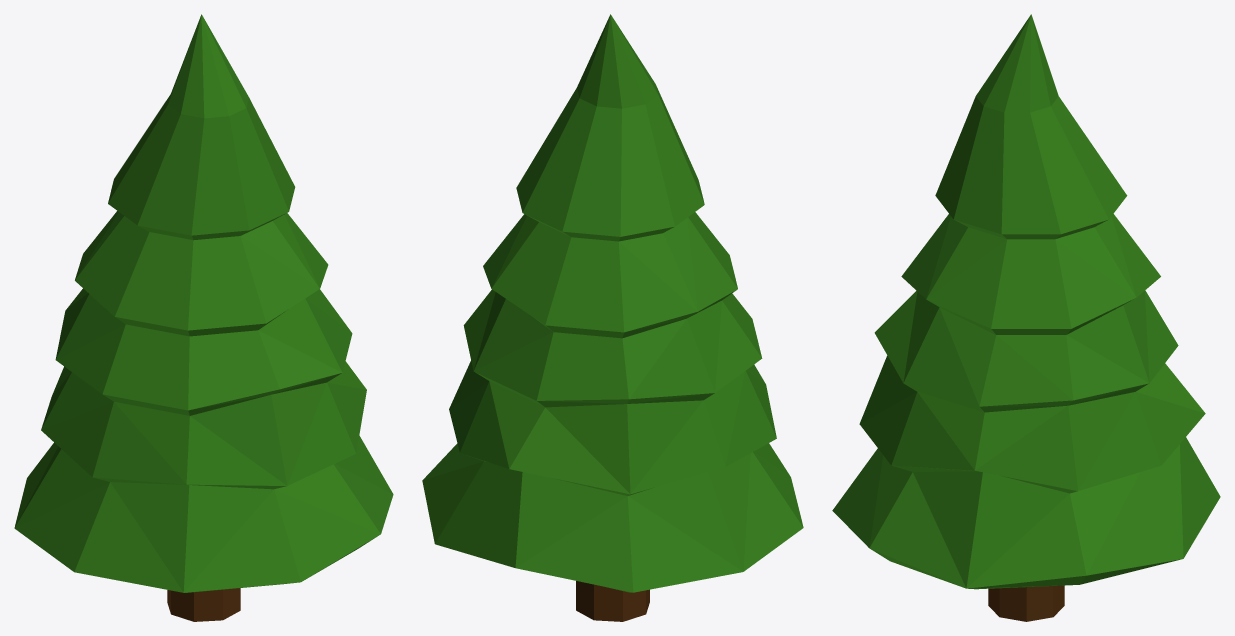
The model's file is Three.fbx.
3 views of the same model, side by side, from view 1: azimuth 30°, elevation 25°; view 2: azimuth 150°, elevation 25°; view 3: azimuth 270°, elevation 25° (orthographic).
Parts seen in each view (by area): view 1: Цилиндр.001; view 2: Цилиндр.001; view 3: Цилиндр.001.
Part boxes in pixels (x1,y1,x2,y2): Цилиндр.001: [14, 14, 393, 621]; Цилиндр.001: [422, 14, 803, 621]; Цилиндр.001: [832, 14, 1220, 621].
Bounding box in the file's own units: 16.87 × 29.83 × 17.74.
